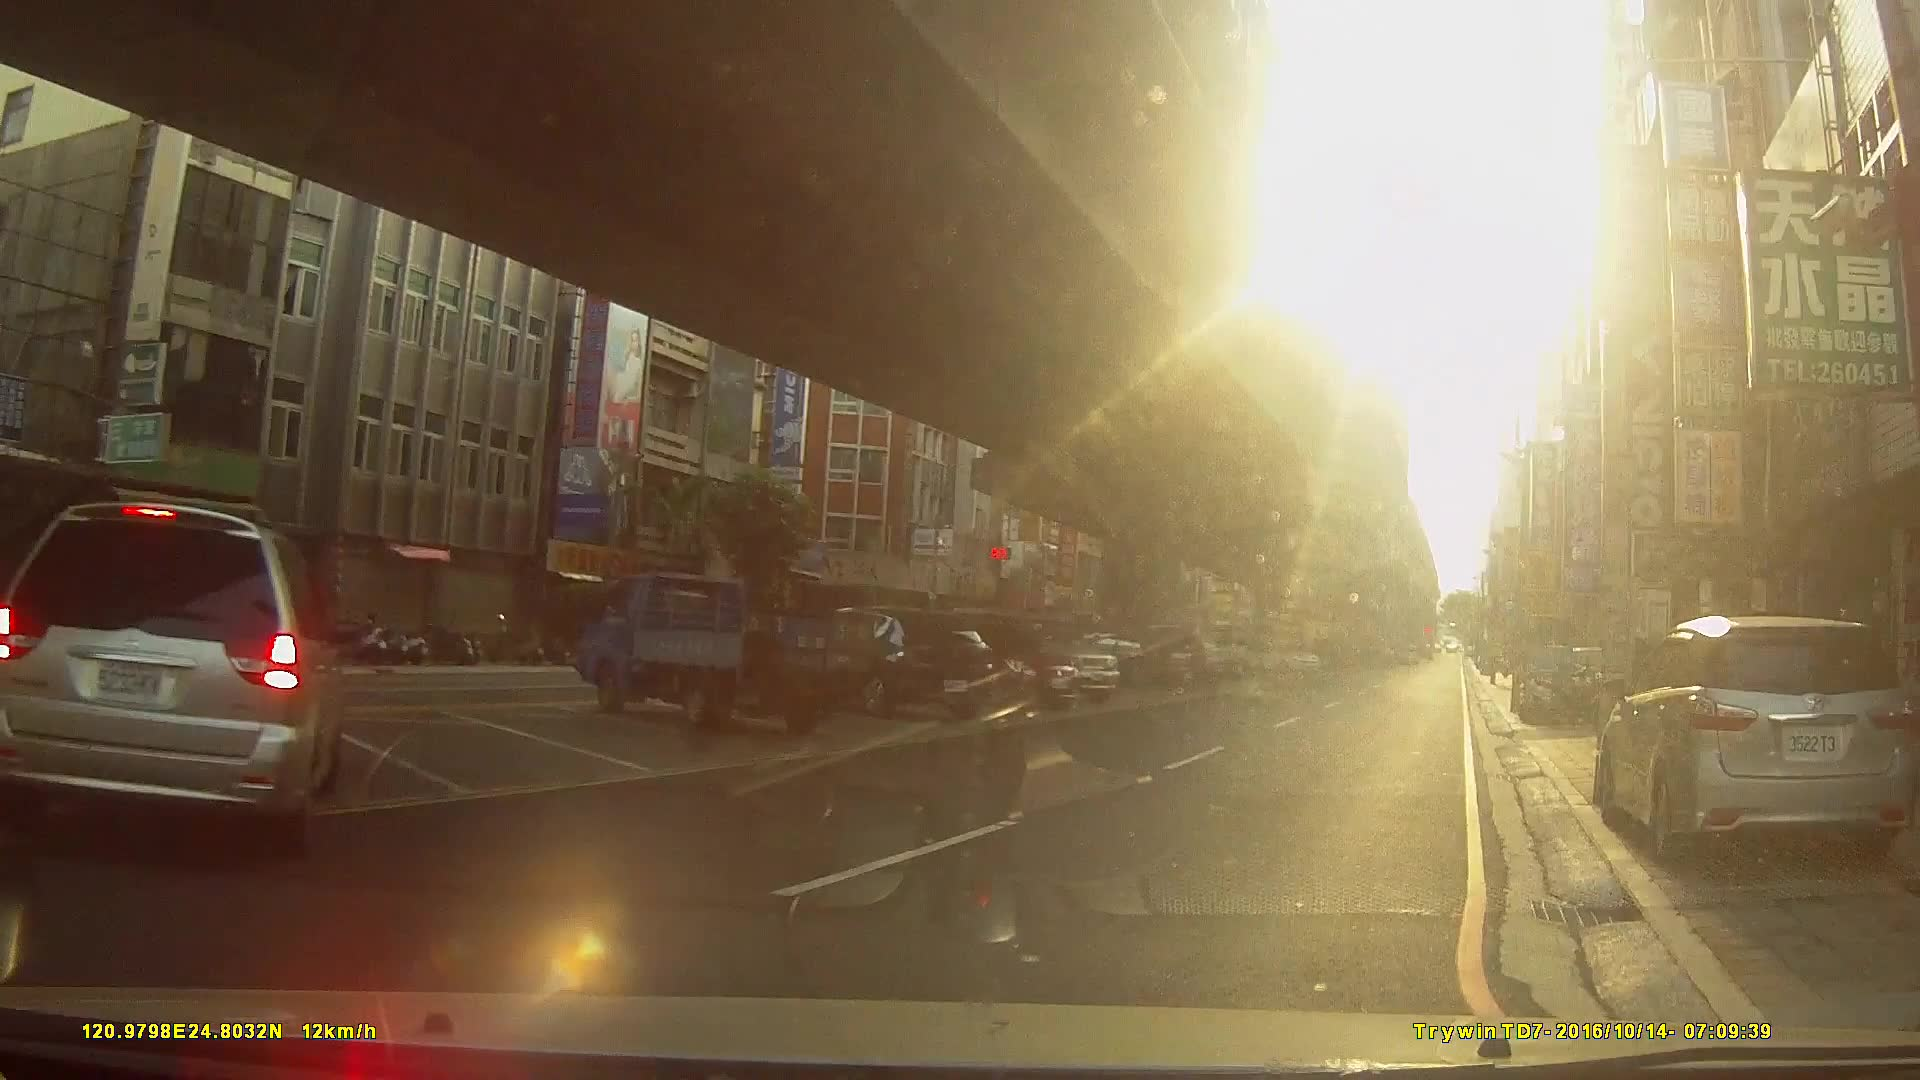vehicle: (0, 496, 347, 858), (1592, 611, 1919, 866), (571, 568, 876, 733), (800, 603, 996, 720), (916, 615, 1084, 705), (1040, 630, 1178, 688)
